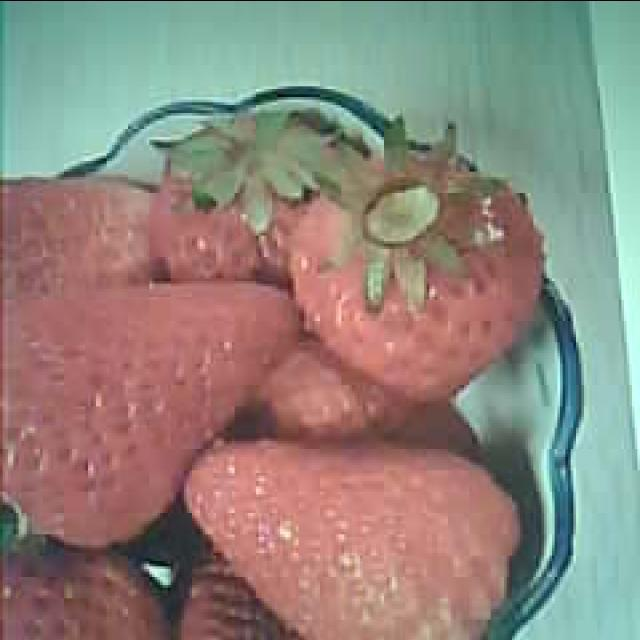ripe: (0, 280, 294, 550), (185, 442, 526, 640)
